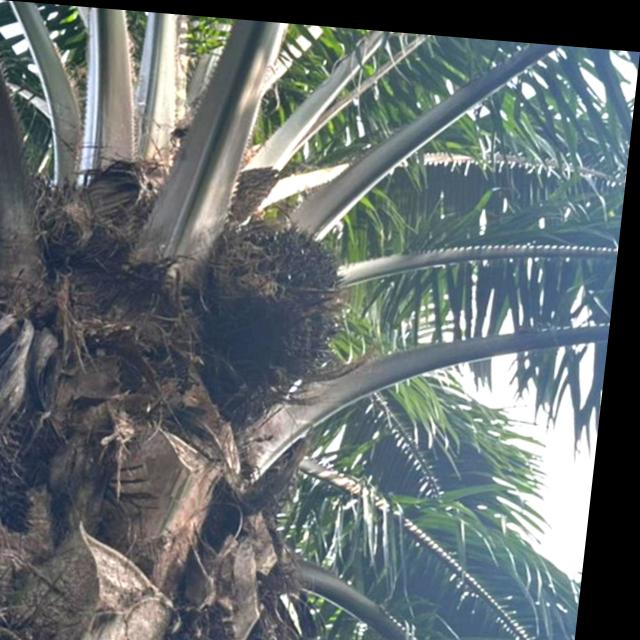unripe: (200, 212, 355, 389)
